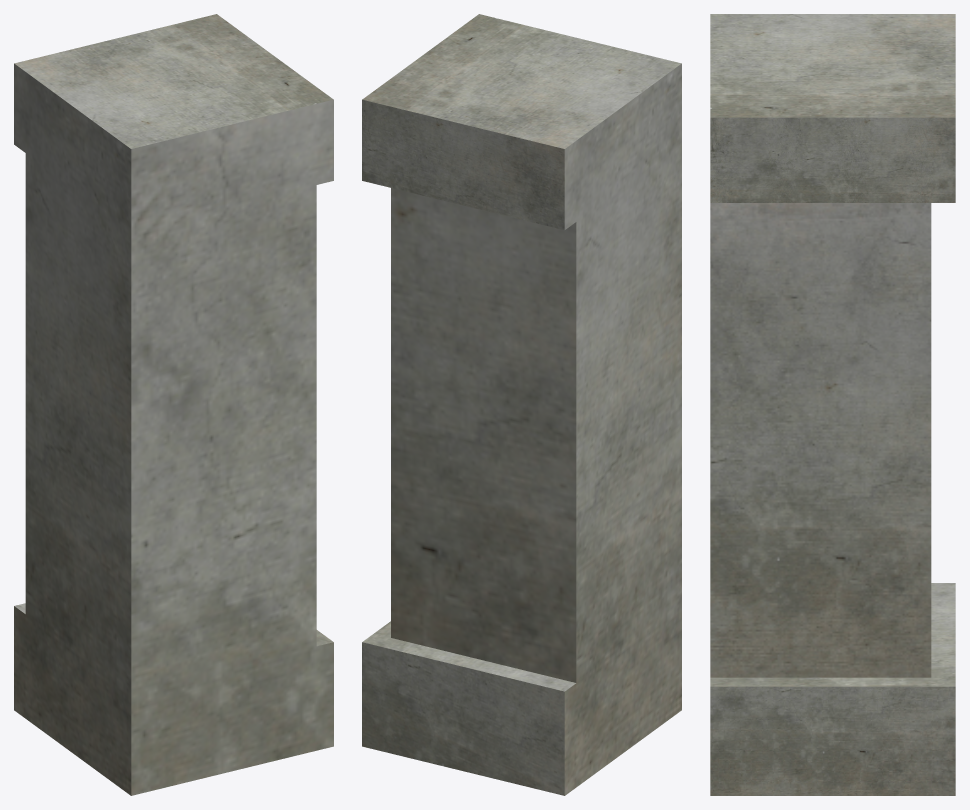
The model's file is Pilar.fbx.
3 views of the same model, side by side, from view 1: azimuth 30°, elevation 25°; view 2: azimuth 150°, elevation 25°; view 3: azimuth 270°, elevation 25° (orthographic). The views are drawn at different scales.
Parts seen in each view (by area): view 1: Model; view 2: Model; view 3: Model.
Boxes of the visible parts, left/top/right/bottom form: Model: left=14, top=14, right=333, bottom=795; Model: left=362, top=14, right=681, bottom=795; Model: left=710, top=14, right=955, bottom=795.
Bounding box in the file's own units: 21.38 × 65.19 × 21.38.
